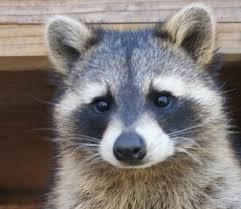raccoon: (25, 0, 241, 209)
